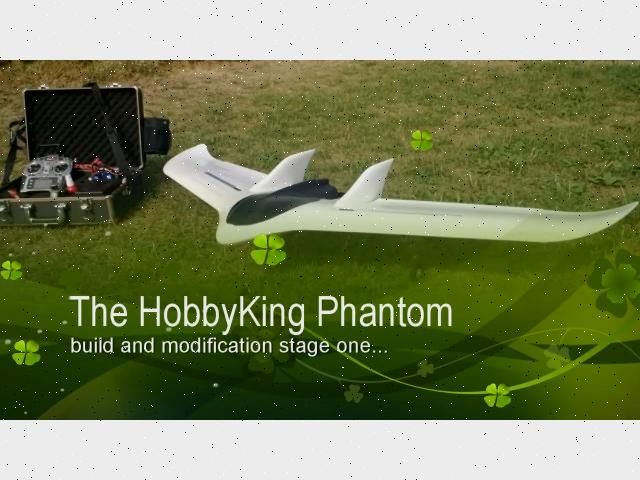Anti-Drone: (158, 121, 640, 267)
